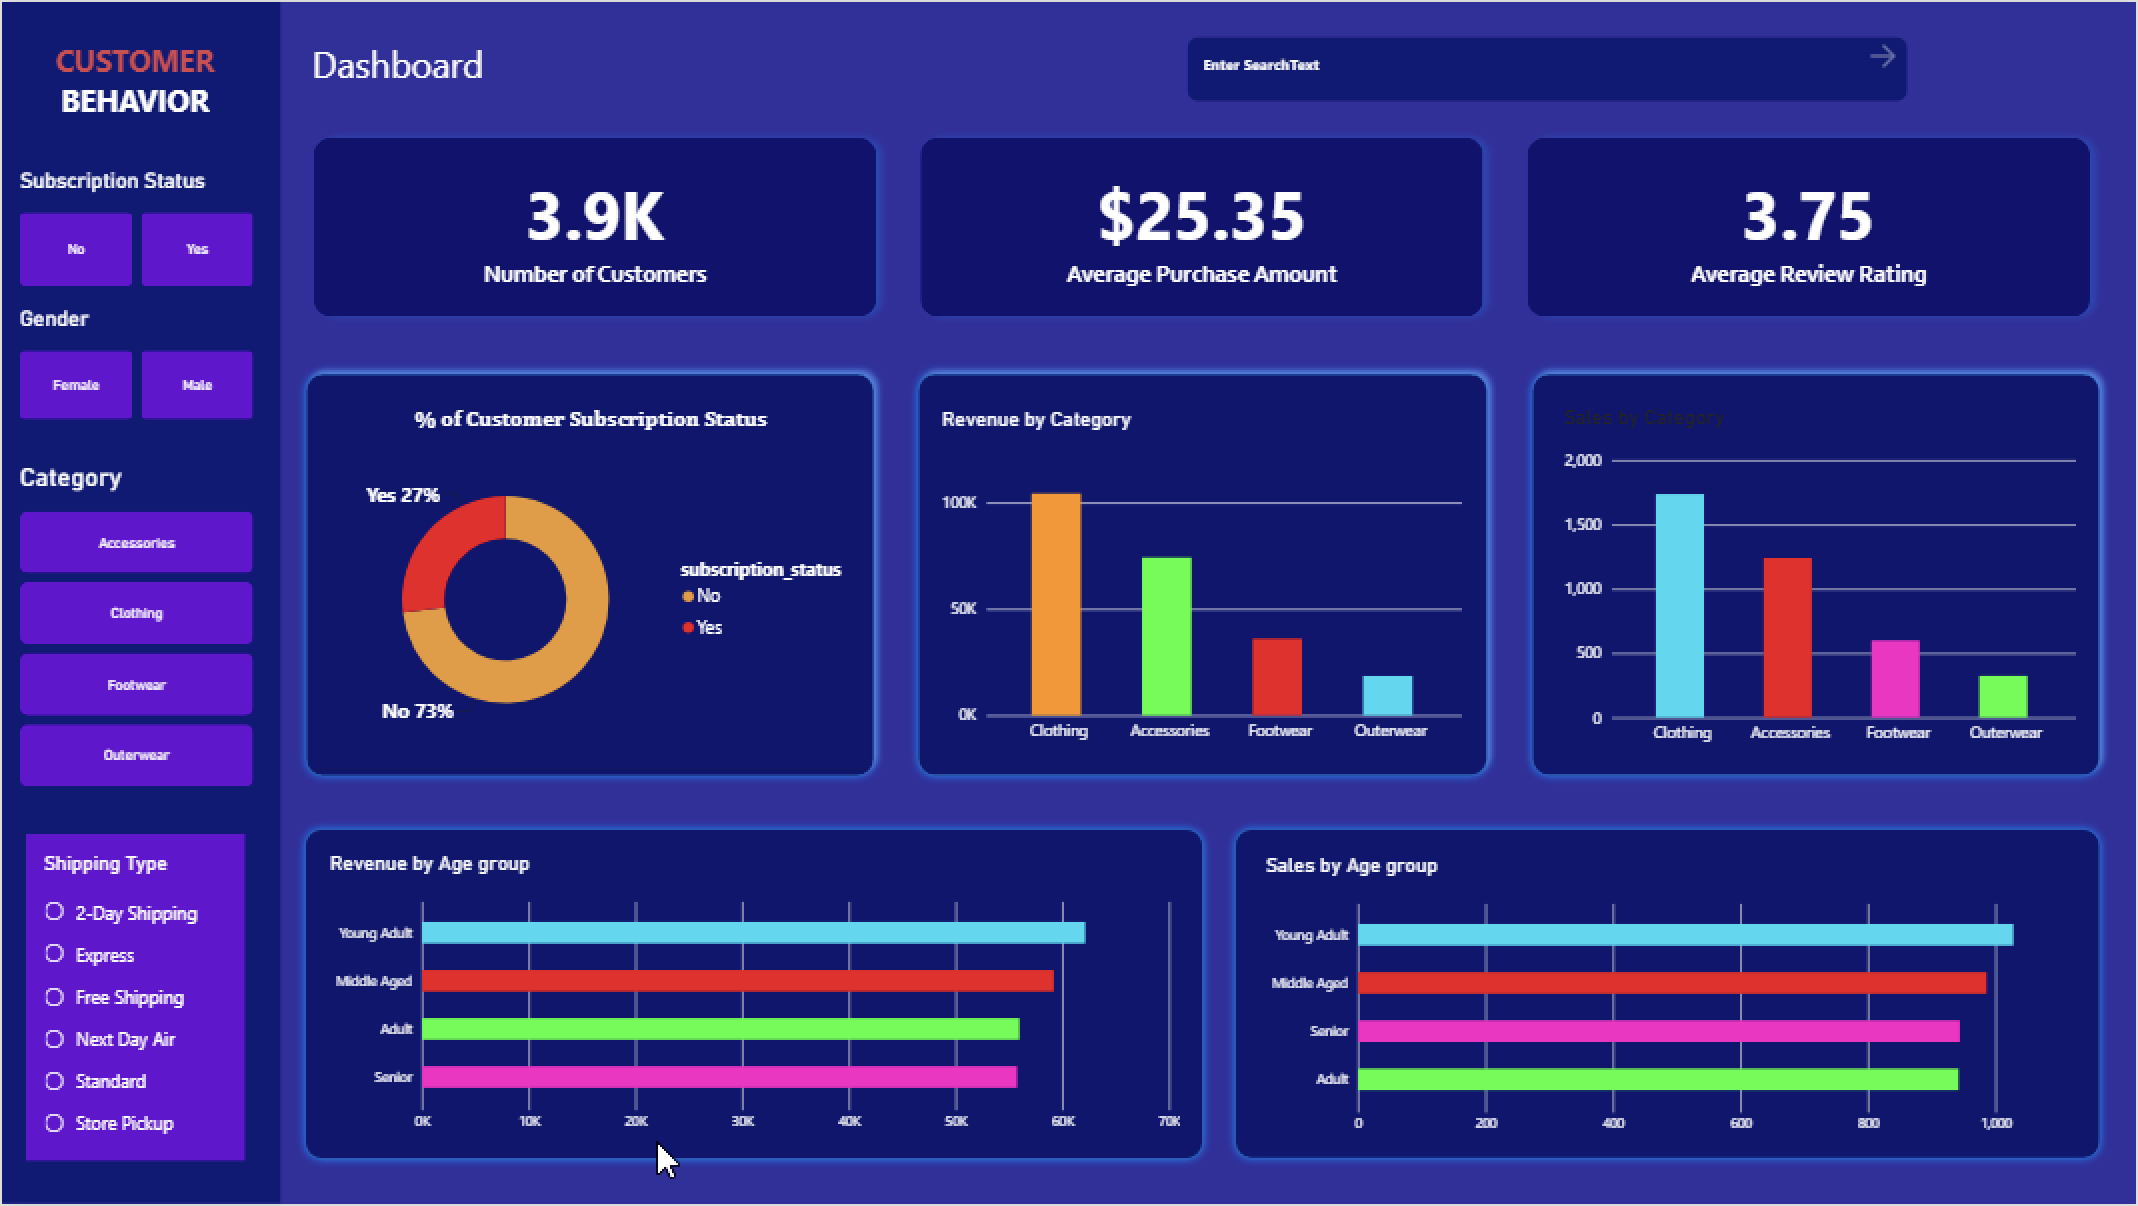

This screenshot's page, from the dashboard's own definition file:
{"tool":"powerbi","page":{"name":"Page 1","canvas":[1920,1080],"ordinal":0},"visuals":[{"type":"cardVisual","fields":{"Data":["public customer.Number of Customers","public customer.Average Purchase Amount","public customer.Average Review Rating"]},"box":[264.2,106,1631.6,193.5],"z":0},{"type":"shape","box":[264.5,325.7,529,379.7],"z":1000},{"type":"donutChart","title":"% of Customer Subscription Status","fields":{"Category":["public customer.subscription_status"],"Y":["CountNonNull(public customer.customer_id)"]},"box":[278.9,347.3,502,341.9],"z":2000},{"type":"shape","box":[814.9,325.6,530.2,379.5],"z":3000},{"type":"clusteredColumnChart","title":"Revenue by Category","fields":{"Category":["public customer.category"],"Y":["Sum(public customer.purchase_amount)"]},"box":[829.8,349.8,500.5,336.7],"z":4000},{"type":"shape","box":[1367.4,325.1,528.8,379.2],"z":5000},{"type":"clusteredColumnChart","title":"Sales by Category","fields":{"Category":["public customer.category"],"Y":["CountNonNull(public customer.customer_id)"]},"box":[1389.8,347.9,493,340.5],"z":6000},{"type":"textbox","title":"Cuao","box":[279.1,33.5,409.3,65.1],"z":7000},{"type":"shape","box":[0,0,251.2,1080.9],"z":8000},{"type":"advancedSlicerVisual","title":"Subscription Status","fields":{"Values":["public customer.subscription_status"]},"box":[16.7,148.8,210.2,106],"z":9000},{"type":"advancedSlicerVisual","title":"Gender","fields":{"Values":["public customer.gender"]},"box":[16.7,273.5,210.2,102.3],"z":10000},{"type":"advancedSlicerVisual","title":"Category","fields":{"Values":["public customer.category"]},"box":[16.7,413,210.2,292.1],"z":11000},{"type":"listSlicer","fields":{"Values":["public customer.shipping_type"]},"box":[22.3,747.9,197.2,294],"z":12000},{"type":"shape","box":[264.5,736,824.1,313.1],"z":13000},{"type":"clusteredBarChart","title":"Revenue by Age group","fields":{"Category":["public customer.age_group"],"Y":["Sum(public customer.purchase_amount)"]},"box":[278.9,750.4,797.2,286.1],"z":14000},{"type":"shape","box":[1101.4,736.7,794.4,312.6],"z":15000},{"type":"textbox","box":[13,33.5,214,72.6],"z":16000},{"type":"clusteredBarChart","title":"Sales by Age group","fields":{"Category":["public customer.age_group"],"Y":["CountNonNull(public customer.customer_id)"]},"box":[1121.9,751.6,760.9,286.5],"z":17000},{"type":"textSlicer","fields":{"Values":["public customer.SearchText"]},"box":[1050.4,18.3,678.6,87.4],"z":17001}]}

Visuals, with their boxes in screenshot pixels (x1, y1, x2, y2), scaled from the page's 1920x1080 canvas onto the 2138x1206 screenshot:
cardVisual - public customer.Number of Customers x public customer.Average Purchase Amount: {"left": 294, "top": 118, "right": 2111, "bottom": 334}
shape: {"left": 295, "top": 364, "right": 884, "bottom": 788}
"% of Customer Subscription Status" donutChart: {"left": 311, "top": 388, "right": 870, "bottom": 770}
shape: {"left": 907, "top": 364, "right": 1498, "bottom": 787}
"Revenue by Category" clusteredColumnChart: {"left": 924, "top": 391, "right": 1481, "bottom": 767}
shape: {"left": 1523, "top": 363, "right": 2111, "bottom": 786}
"Sales by Category" clusteredColumnChart: {"left": 1548, "top": 388, "right": 2097, "bottom": 769}
"Cuao" textbox: {"left": 311, "top": 37, "right": 767, "bottom": 110}
shape: {"left": 0, "top": 0, "right": 280, "bottom": 1205}
"Subscription Status" advancedSlicerVisual: {"left": 19, "top": 166, "right": 253, "bottom": 285}
"Gender" advancedSlicerVisual: {"left": 19, "top": 305, "right": 253, "bottom": 420}
"Category" advancedSlicerVisual: {"left": 19, "top": 461, "right": 253, "bottom": 787}
listSlicer - public customer.shipping_type: {"left": 25, "top": 835, "right": 244, "bottom": 1163}
shape: {"left": 295, "top": 822, "right": 1212, "bottom": 1171}
"Revenue by Age group" clusteredBarChart: {"left": 311, "top": 838, "right": 1198, "bottom": 1157}
shape: {"left": 1226, "top": 823, "right": 2111, "bottom": 1172}
textbox: {"left": 14, "top": 37, "right": 253, "bottom": 118}
"Sales by Age group" clusteredBarChart: {"left": 1249, "top": 839, "right": 2097, "bottom": 1159}
textSlicer - public customer.SearchText: {"left": 1170, "top": 20, "right": 1925, "bottom": 118}
